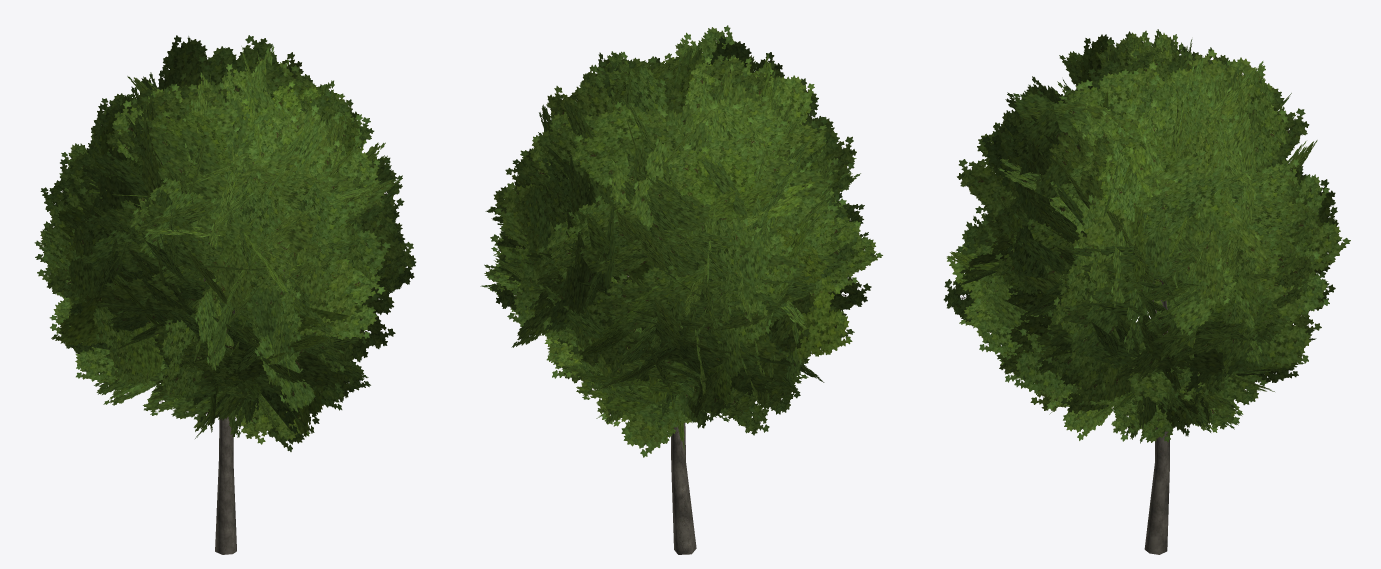
The model's file is arbre_feuillu_jeune_lod1.glb.
3 views of the same model, side by side, from view 1: azimuth 30°, elevation 25°; view 2: azimuth 150°, elevation 25°; view 3: azimuth 270°, elevation 25° (orthographic). The views are drawn at different scales.
Visible parts, largest first — view 1: arbre_feuillu_jeune_lod1; view 2: arbre_feuillu_jeune_lod1; view 3: arbre_feuillu_jeune_lod1.
Boxes of the visible parts, box(x1,y1,x2,y2) form: arbre_feuillu_jeune_lod1: box(34, 35, 416, 554); arbre_feuillu_jeune_lod1: box(480, 25, 882, 554); arbre_feuillu_jeune_lod1: box(943, 29, 1350, 554).
Bounding box in the file's own units: 5.06 × 6.7 × 5.1.
2 materials, 2 textured.
